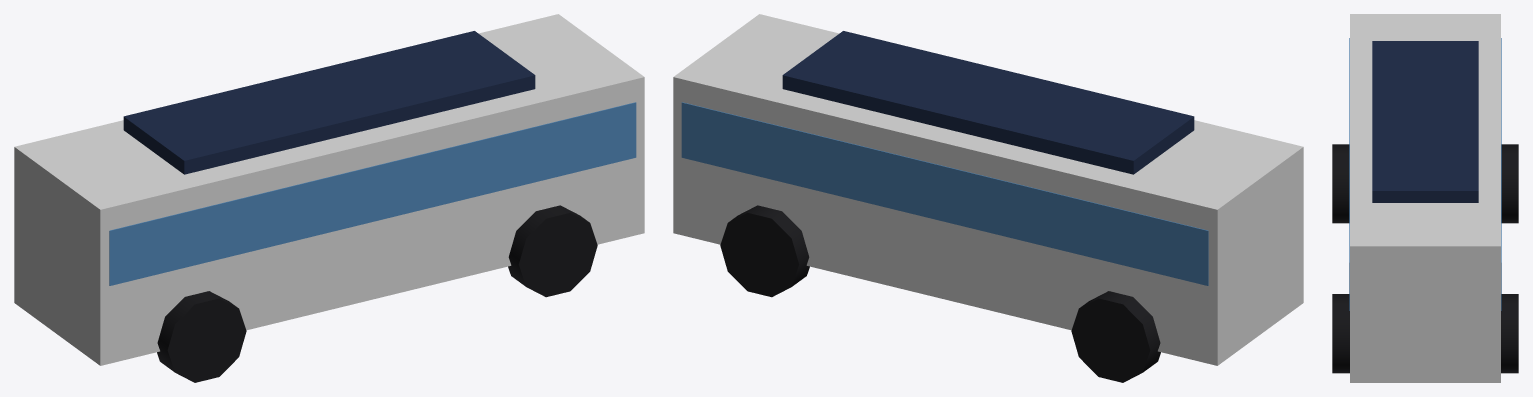
File: bus_2010.glb
3 views of the same model, side by side, from view 1: azimuth 30°, elevation 25°; view 2: azimuth 150°, elevation 25°; view 3: azimuth 270°, elevation 25° (orthographic). The views are drawn at different scales.
Visible parts, largest first — view 1: Body, Windows, Roof, bus_w1_1, bus_w0_1; view 2: Body, Windows, Roof, bus_w1_-1, bus_w0_-1; view 3: Body, Roof, bus_w1_-1, bus_w1_1, bus_w0_-1, bus_w0_1, Windows.
Part boxes in pixels (x1,y1,x2,y2): Body: (14,14,644,365); Windows: (109,102,636,285); Roof: (123,31,535,174); bus_w1_1: (508,205,597,297); bus_w0_1: (157,291,246,382); Body: (673,14,1303,365); Windows: (681,102,1208,285); Roof: (782,31,1194,174); bus_w1_-1: (720,205,809,297); bus_w0_-1: (1071,291,1160,382); Body: (1350,14,1500,382); Roof: (1372,41,1478,202); bus_w1_-1: (1501,294,1518,373); bus_w1_1: (1332,294,1349,373); bus_w0_-1: (1501,144,1518,223); bus_w0_1: (1332,144,1349,223); Windows: (1349,38,1501,310).
Size of the model in its own units: 0.62 by 0.2203 by 0.21.
